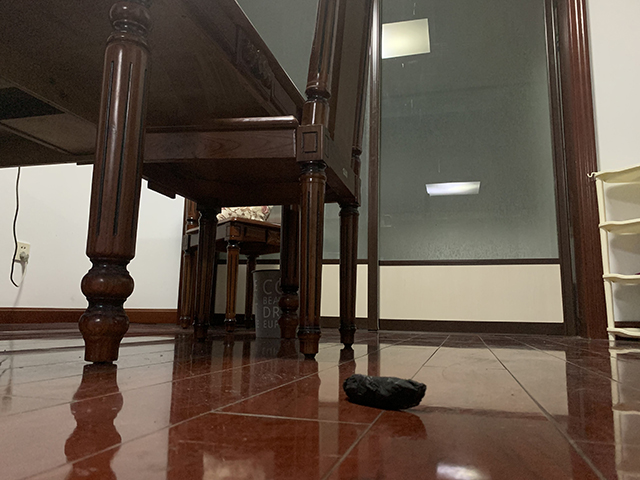feces: (341, 373, 427, 410)
stool: (141, 1, 375, 361), (177, 199, 282, 331)
table: (1, 1, 307, 367)
trashcan: (251, 267, 282, 339)
